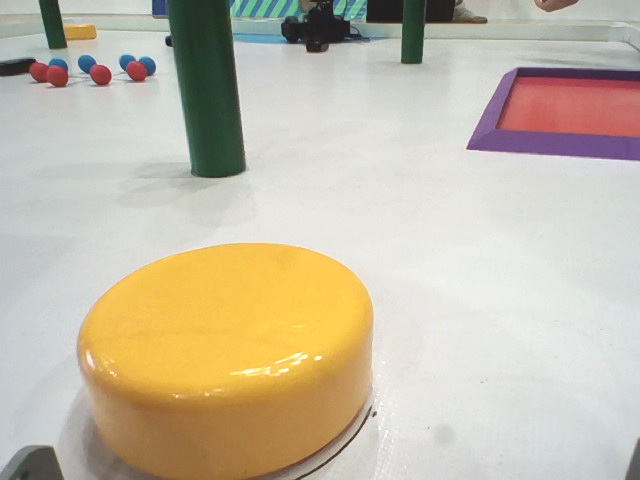black: (1, 57, 41, 76)
blue: (70, 53, 96, 71), (136, 58, 159, 76), (117, 51, 135, 72), (49, 58, 68, 76)
kuang: (463, 61, 640, 163)
red: (124, 60, 149, 81), (47, 66, 71, 87), (29, 61, 51, 81), (91, 66, 113, 85)
yellow: (70, 241, 377, 480), (57, 16, 101, 41)
zhuzi: (161, 1, 252, 184), (399, 1, 432, 68), (36, 1, 66, 51)
